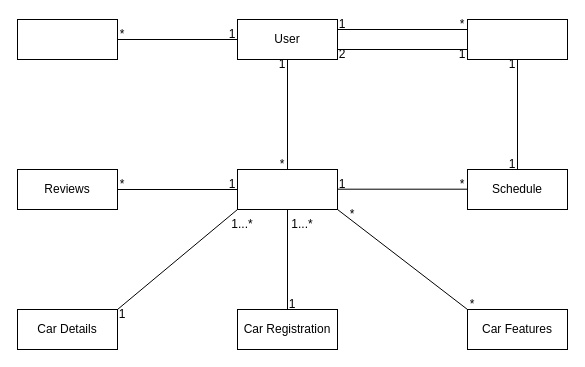
Image size: 585x367. Some labels were removed from this diagram. The box of each missing label's shape, as (x1, y1, x2, y2) in pixels:
Car: (236, 168, 338, 210)
Transaction: (466, 18, 568, 60)
User Payment Details: (16, 18, 118, 60)
